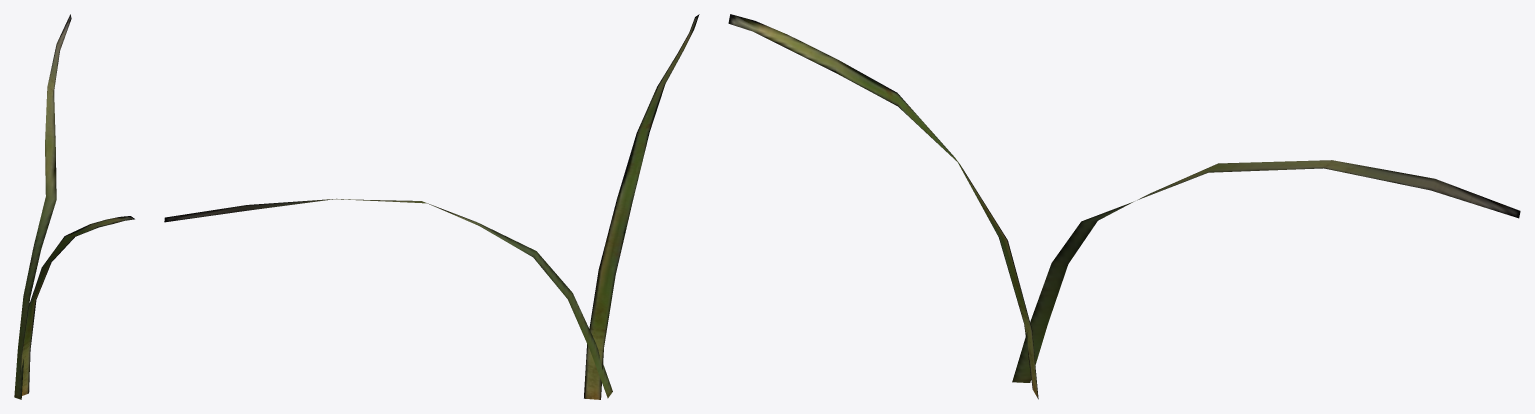
Rendered from grass_6.glb.
3 renders of one model, left to right at view 1: azimuth 30°, elevation 25°; view 2: azimuth 150°, elevation 25°; view 3: azimuth 270°, elevation 25°, orthographic. The views are drawn at different scales.
Parts seen in each view (by area): view 1: grass_medium_01_tiny_d_LOD0; view 2: grass_medium_01_tiny_d_LOD0; view 3: grass_medium_01_tiny_d_LOD0.
Part boxes in pixels (box(x1,y1,x2,y2)): grass_medium_01_tiny_d_LOD0: box(14, 14, 134, 399); grass_medium_01_tiny_d_LOD0: box(164, 14, 699, 399); grass_medium_01_tiny_d_LOD0: box(728, 14, 1520, 399).
Bounding box in the file's own units: 0.043 × 0.0478 × 0.0886.
1 material, 1 textured.
